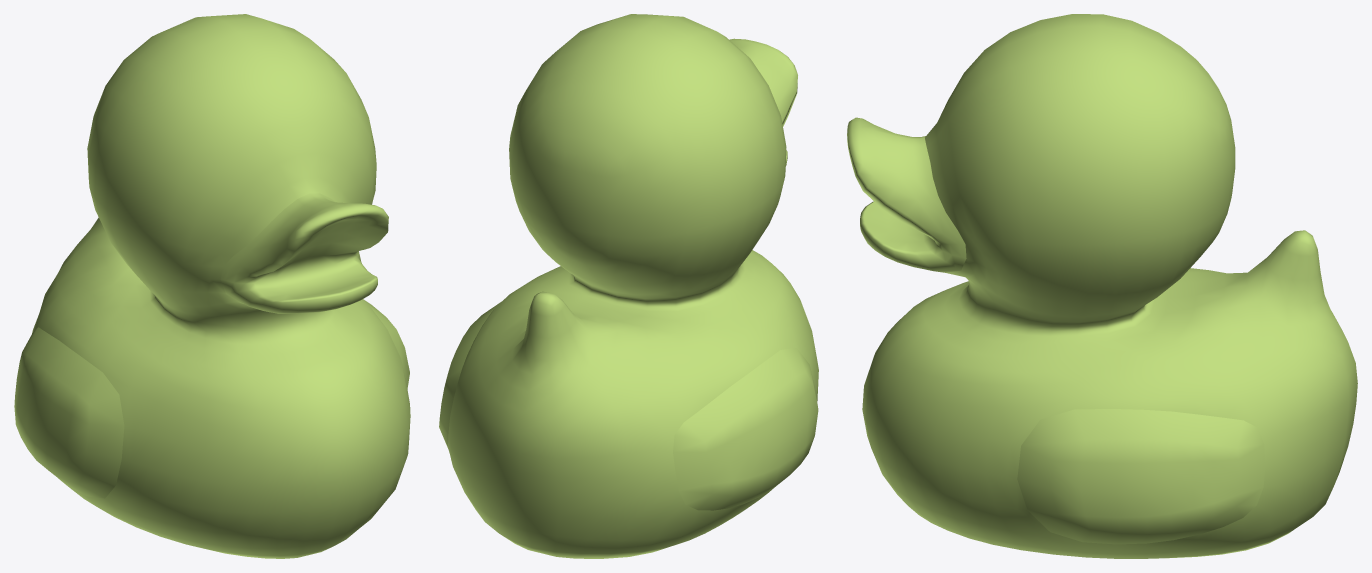
File: T1_S_PlasticDuck_Tx.fbx
3 renders of one model, left to right at view 1: azimuth 30°, elevation 25°; view 2: azimuth 150°, elevation 25°; view 3: azimuth 270°, elevation 25°, orthographic. The views are drawn at different scales.
Visible parts, largest first — view 1: T1_S_PlasticDuck_Tx.001; view 2: T1_S_PlasticDuck_Tx.001; view 3: T1_S_PlasticDuck_Tx.001.
Part boxes in pixels (x1,y1,x2,y2): T1_S_PlasticDuck_Tx.001: [14, 14, 410, 558]; T1_S_PlasticDuck_Tx.001: [439, 14, 818, 558]; T1_S_PlasticDuck_Tx.001: [847, 14, 1357, 558].
Size of the model in its own units: 37.07 by 49.61 by 47.59.
